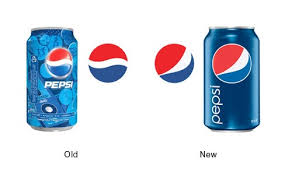can: (20, 25, 86, 140), (203, 20, 262, 140)
